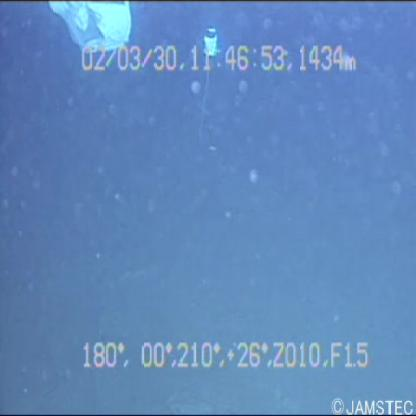Rác: (39, 1, 149, 56)
